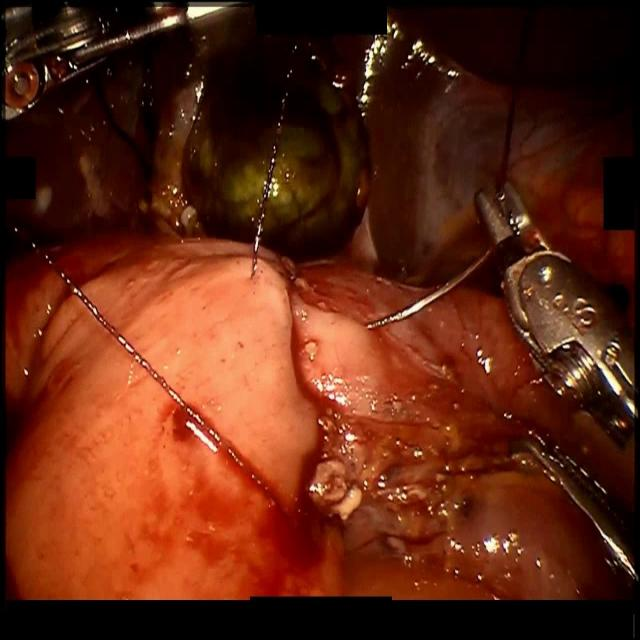surgical-area: (0, 3, 639, 600)
surgical-tool: (472, 174, 636, 455), (0, 2, 248, 126), (504, 428, 640, 599)
